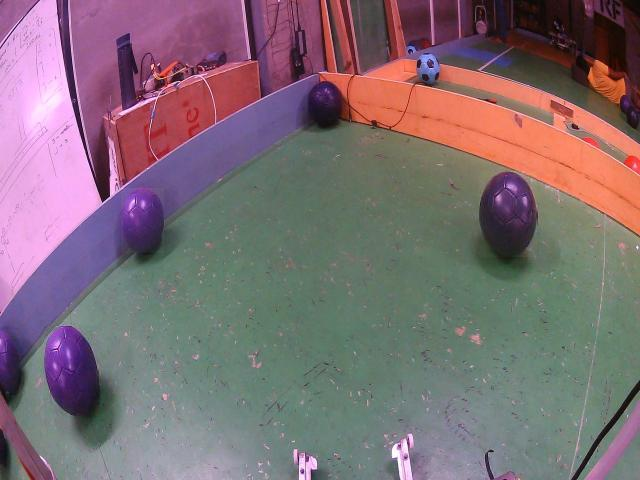jambhalya: (45, 326, 98, 414), (121, 189, 164, 253), (0, 330, 21, 393)
kaalyya: (480, 171, 537, 257), (308, 81, 342, 127)
